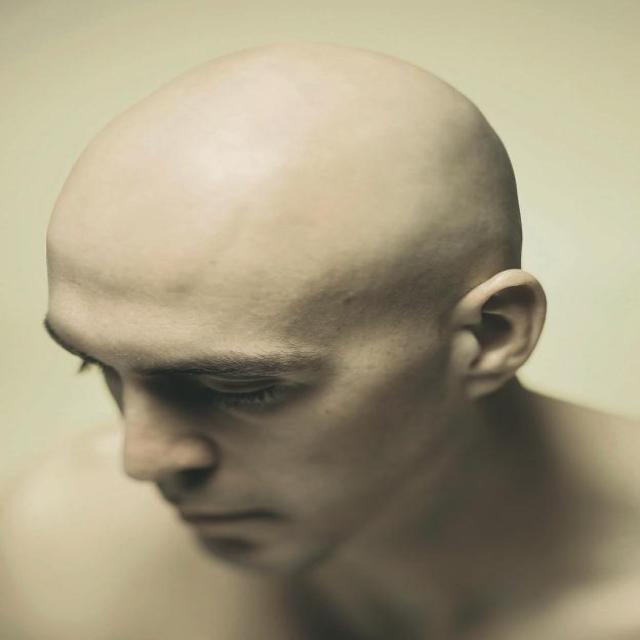no_helmet: (35, 35, 538, 303)
